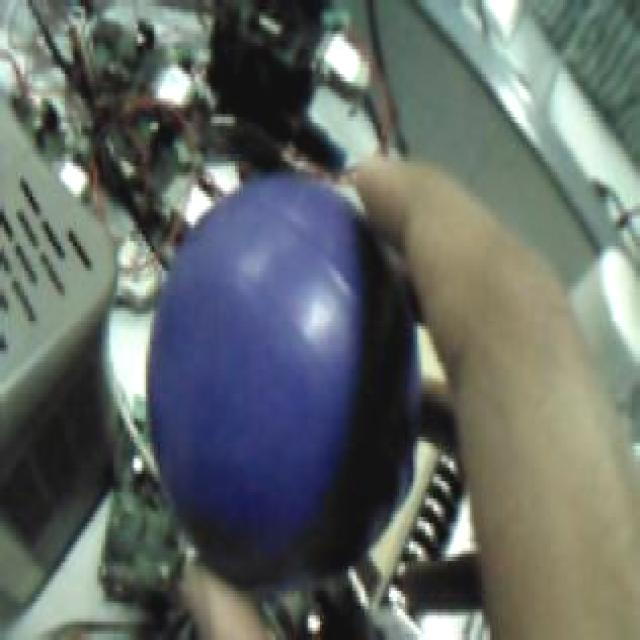BallPurple: (147, 174, 420, 585)
